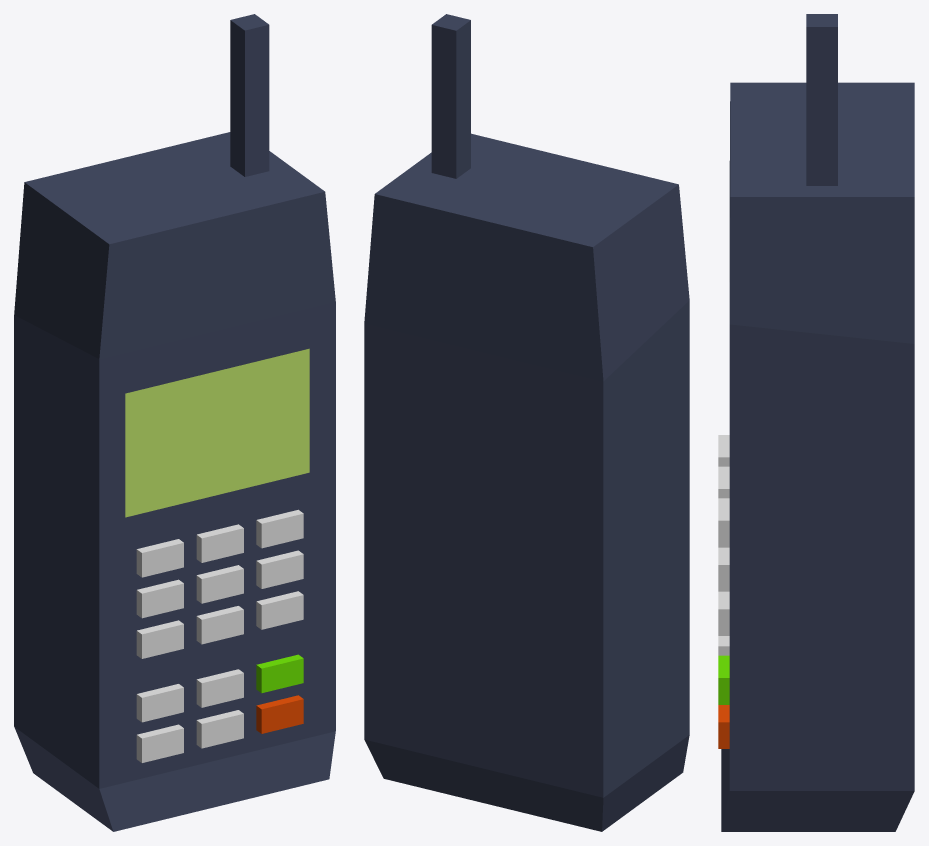
The model's file is phone_2.fbx.
The picture shows the model from 3 angles, left to right: view 1: azimuth 30°, elevation 25°; view 2: azimuth 150°, elevation 25°; view 3: azimuth 270°, elevation 25°; orthographic projection. The views are drawn at different scales.
Parts seen in each view (by area): view 1: Cube; view 2: Cube; view 3: Cube.
Part boxes in pixels (left/top/right/bottom): Cube: left=14, top=14, right=335, bottom=831; Cube: left=364, top=14, right=689, bottom=831; Cube: left=718, top=14, right=914, bottom=831.
Bounding box in the file's own units: 79.04 × 234 × 52.41.
